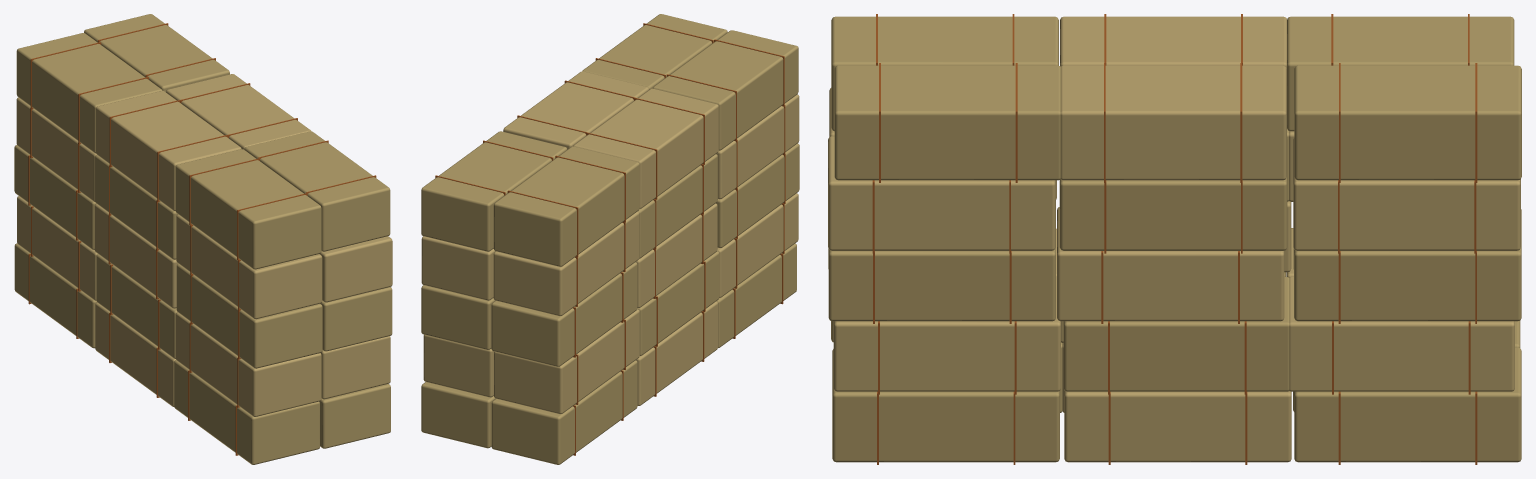
Rendered from farm.bale.stack_square.glb.
3 renders of one model, left to right at view 1: azimuth 30°, elevation 25°; view 2: azimuth 150°, elevation 25°; view 3: azimuth 270°, elevation 25°, orthographic. The views are drawn at different scales.
Visible parts, largest first — view 1: main__timber_a96, main__timber_ba6, main__paint_952; view 2: main__timber_a96, main__timber_ba6, main__paint_952; view 3: main__timber_a96, main__timber_ba6, main__paint_952.
Boxes of the visible parts, bbox=[...] form: main__timber_a96: bbox=[14, 14, 392, 464]; main__timber_ba6: bbox=[16, 74, 392, 416]; main__paint_952: bbox=[28, 23, 376, 455]; main__timber_a96: bbox=[421, 14, 799, 464]; main__timber_ba6: bbox=[421, 71, 799, 414]; main__paint_952: bbox=[435, 23, 785, 455]; main__timber_a96: bbox=[828, 16, 1521, 462]; main__timber_ba6: bbox=[828, 16, 1520, 462]; main__paint_952: bbox=[872, 14, 1477, 464].
Size of the model in its own units: 2.44 by 4.11 by 7.32.
